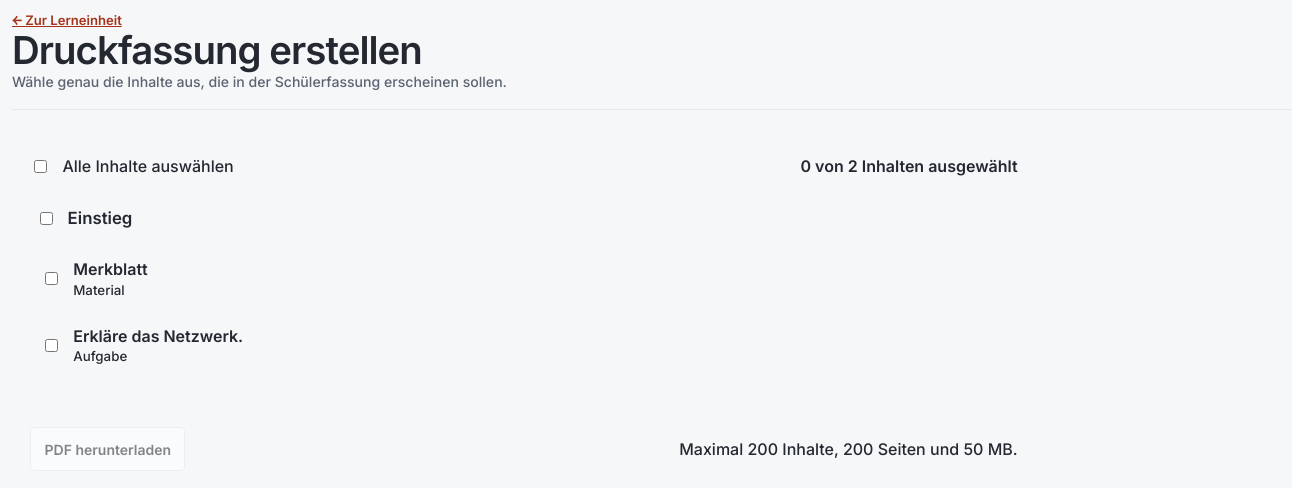
Test: teacher printable-unit page › starts empty and supports hierarchical selection before download
Expected: the button "PDF herunterladen" is disabled, [30,427,185,471]
Expected: the text "0 von 2 Inhalten ausgewählt" is shown, [800,156,1018,176]
Click the checkbox named "Einstieg vollständig auswählen".
click(46, 218)  # box [40,212,53,225]
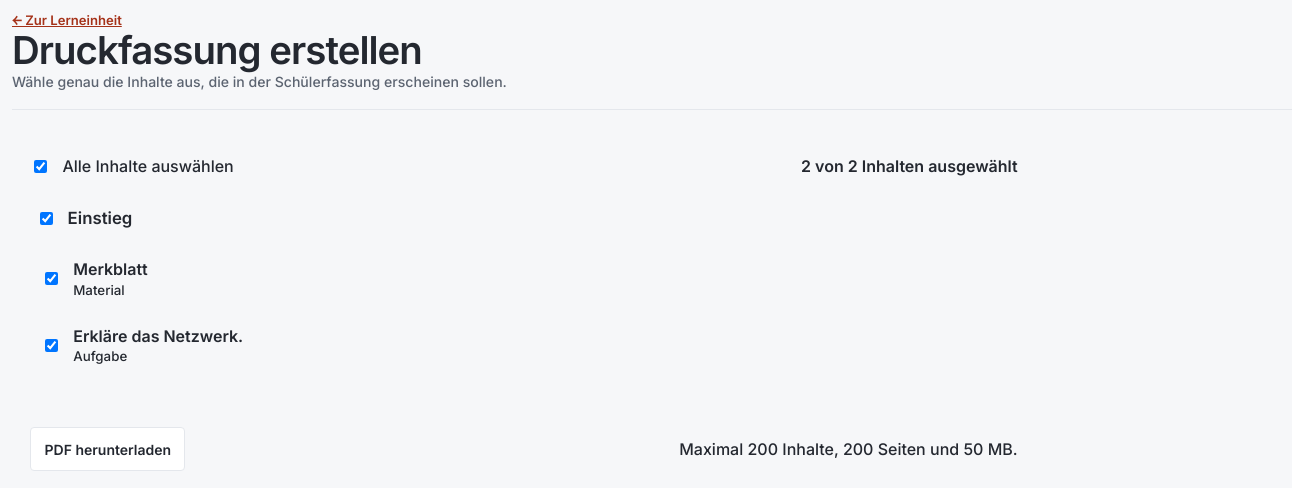
Now the checkbox labelled "Merkblatt" is checked
Now the checkbox named "Aufgabe: Erkläre das Netzwerk." is checked, box [45,338,58,352]
Now the text "2 von 2 Inhalten ausgewählt" is shown, box [801,156,1018,176]
Click the checkbox labelled "Merkblatt".
click(52, 279)  # box [45,272,58,285]
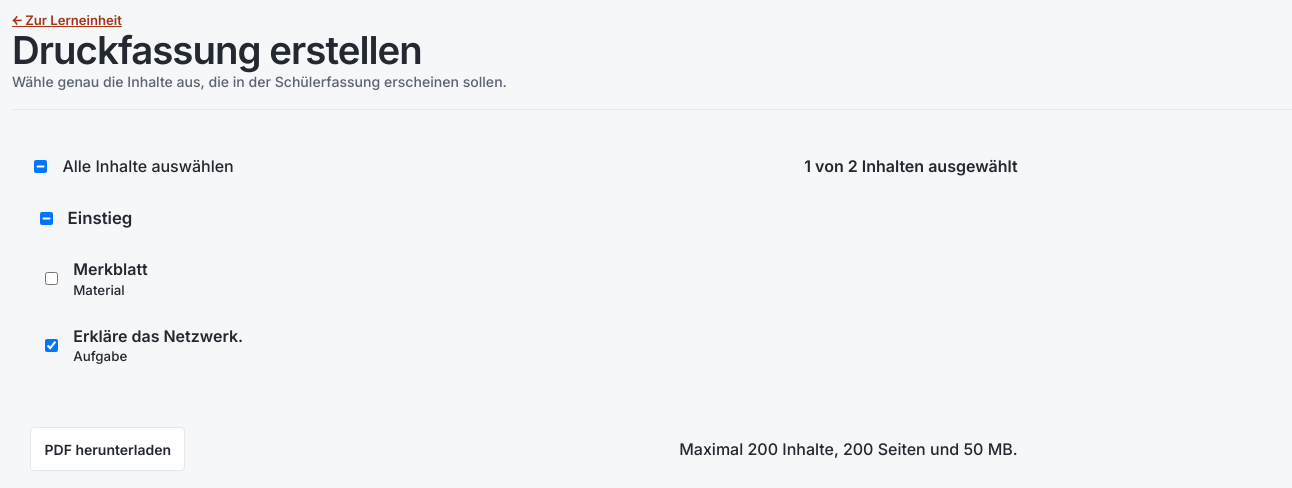
Now the text "1 von 2 Inhalten ausgewählt" is shown, box [804,156,1018,176]
